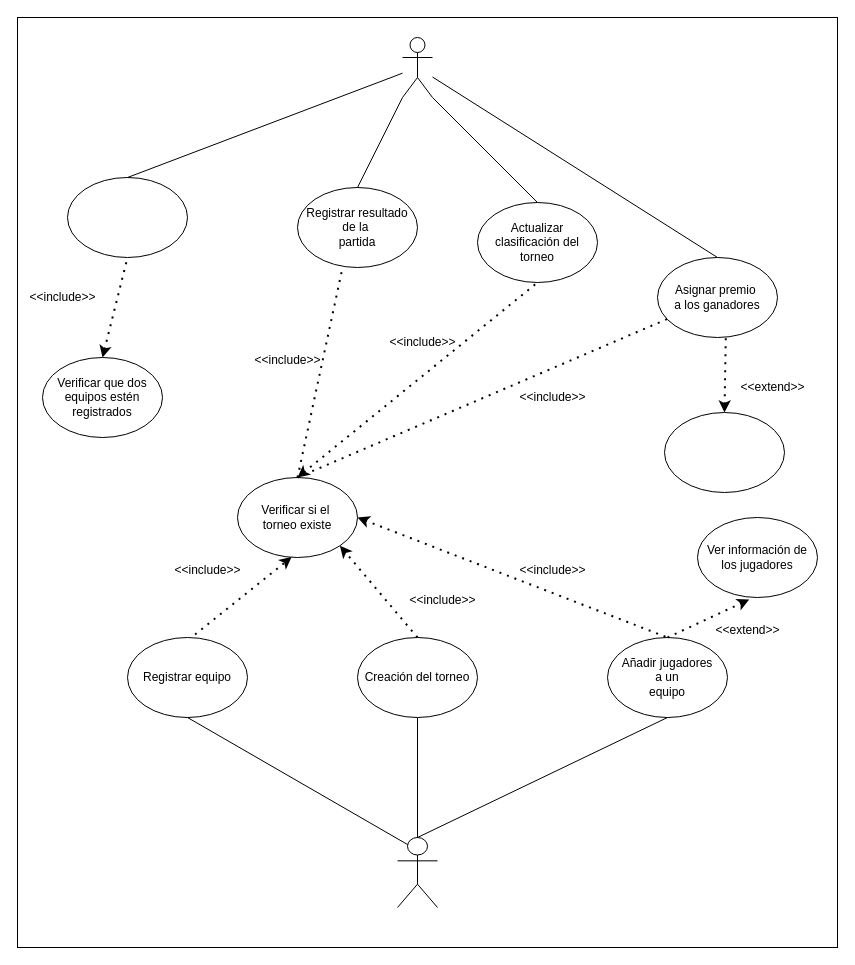
Image size: 855x965. Some labels were removed from this diagram. The centre of each missing label's shape, as x and y in pixels:
"Admin" goes at pixel 417 67.
"Generar emparejamientos" goes at pixel 127 217.
"Usuario" goes at pixel 417 872.
"Ver infomación del premio" goes at pixel 724 452.
